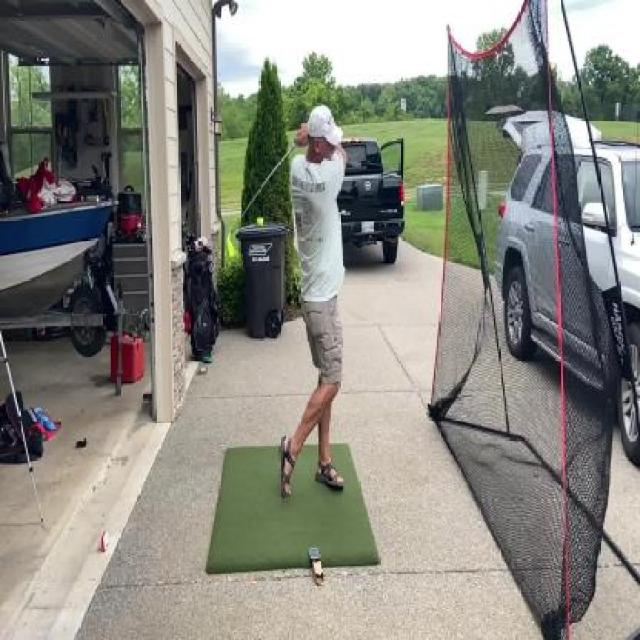club head: (226, 230, 237, 258)
